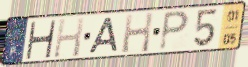5: (193, 7, 220, 50)
A: (87, 16, 120, 56)
H: (121, 10, 156, 54), (51, 16, 86, 60), (23, 19, 58, 60)
P: (157, 9, 192, 53)
